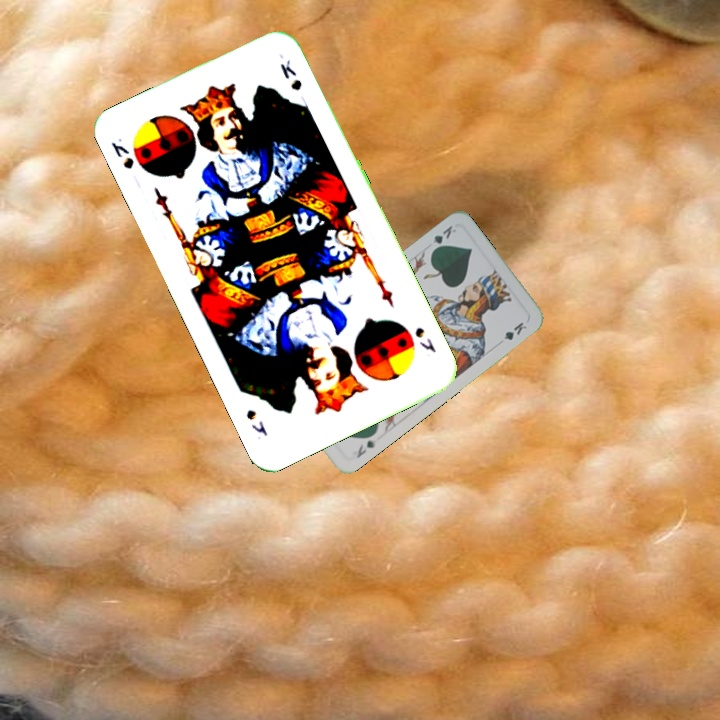GK: (427, 221, 459, 255), (352, 436, 378, 461)
SK: (107, 134, 137, 172), (410, 322, 439, 355)
